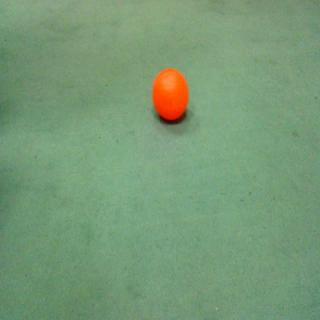orange: (144, 65, 190, 129)
